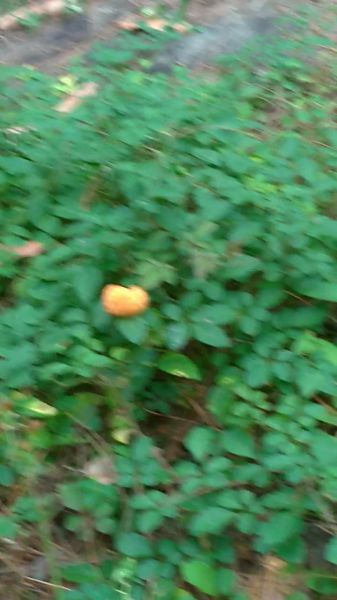eggs: (95, 276, 155, 322)
